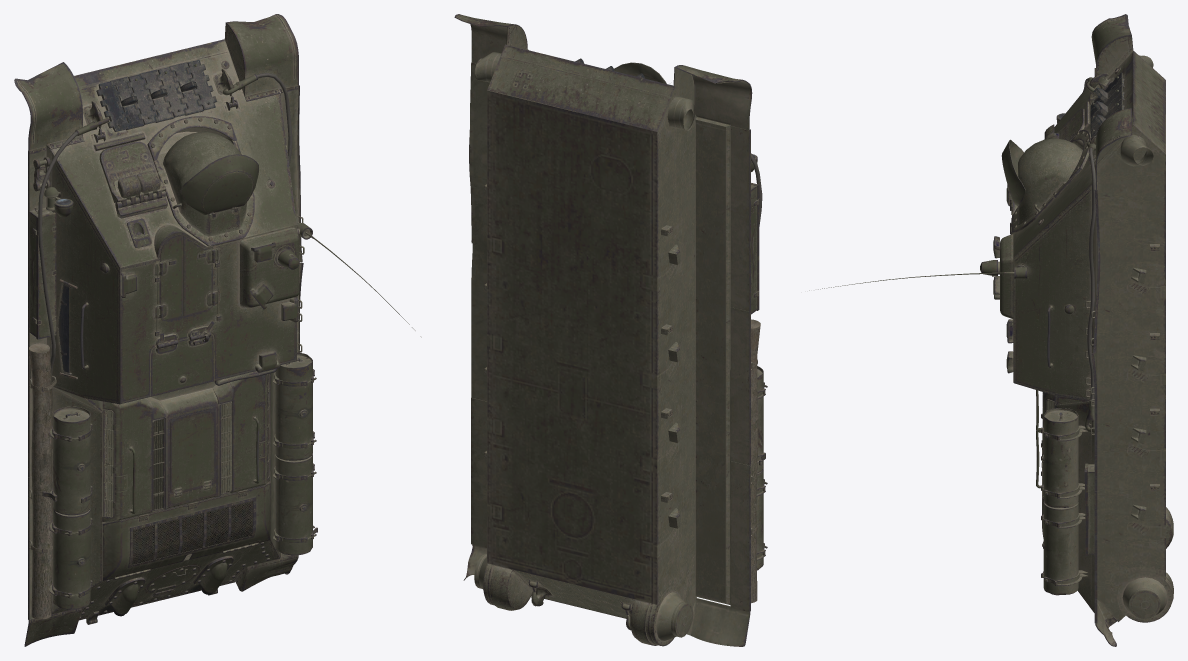
File: Hull.glb
3 renders of one model, left to right at view 1: azimuth 30°, elevation 25°; view 2: azimuth 150°, elevation 25°; view 3: azimuth 270°, elevation 25°, orthographic. The views are drawn at different scales.
Visible parts, largest first — view 1: set_0_group_0; view 2: set_0_group_0; view 3: set_0_group_0.
Part boxes in pixels (left/top/right/bottom): set_0_group_0: left=14, top=14, right=421, bottom=646; set_0_group_0: left=454, top=14, right=767, bottom=646; set_0_group_0: left=809, top=14, right=1173, bottom=646.
Bounding box in the file's own units: 3.08 × 5.98 × 3.94.
Materials: 1 (1 with a texture image).
